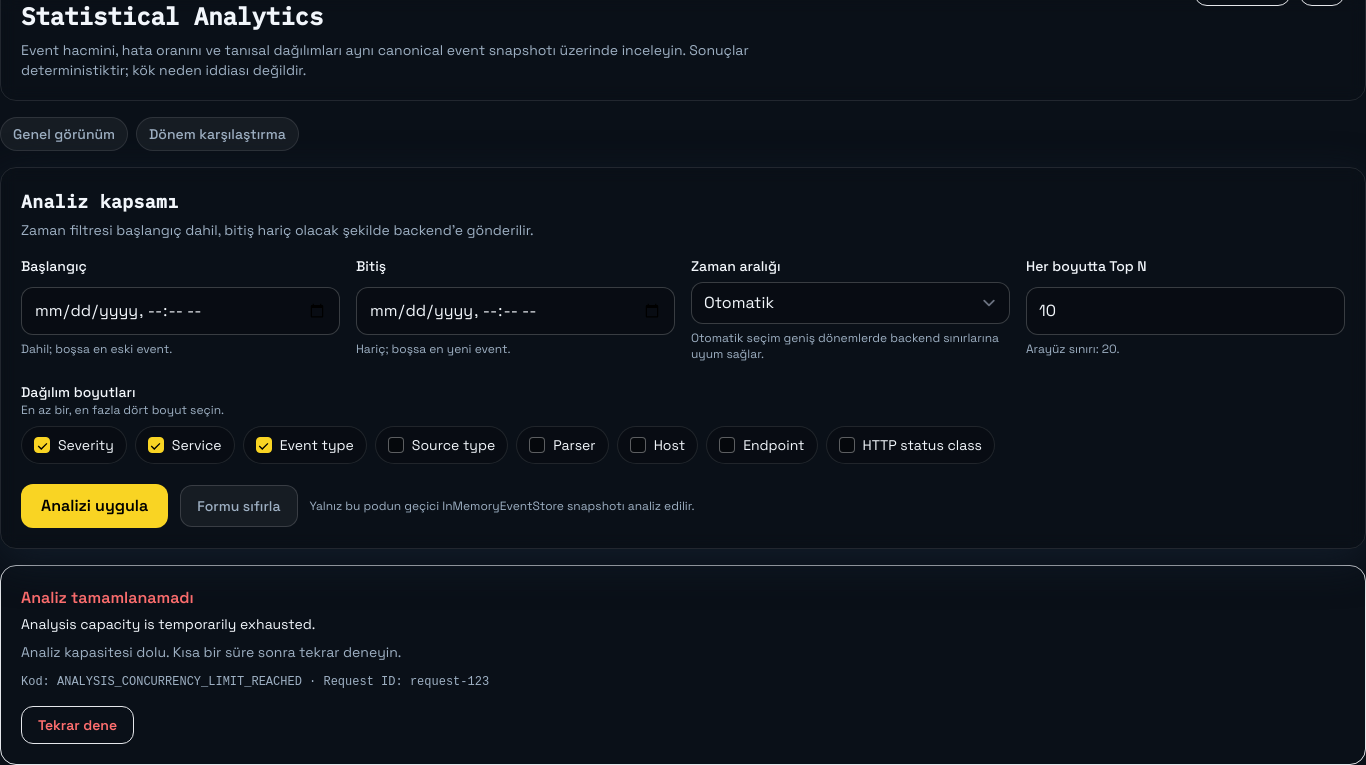
Test: StatisticalAnalysisPage › shows safe analysis error metadata and capacity guidance
(page scrolled)
Expected: the message shows "Analiz kapasitesi dolu", [21,643,401,661]
Expected: the message shows "ANALYSIS_CONCURRENCY_LIMIT_REACHED", [21,675,302,689]
What coordinates should you click on to do the following:
click the button "Tekrar dene"
I would click on:
 (78, 725)
Its box is [21,706,134,744].
(page scrolled)
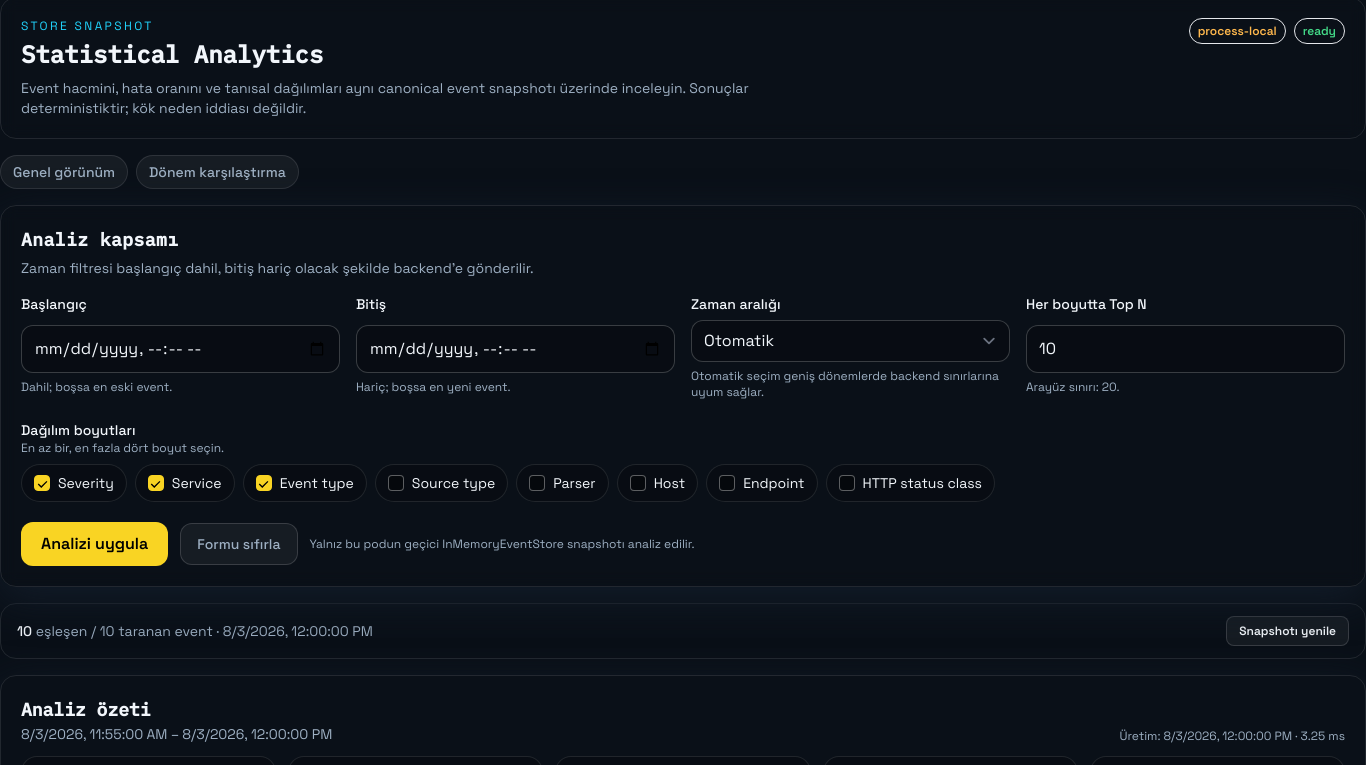
Expected: the heading "Analiz özeti" is shown, [21,698,151,721]
